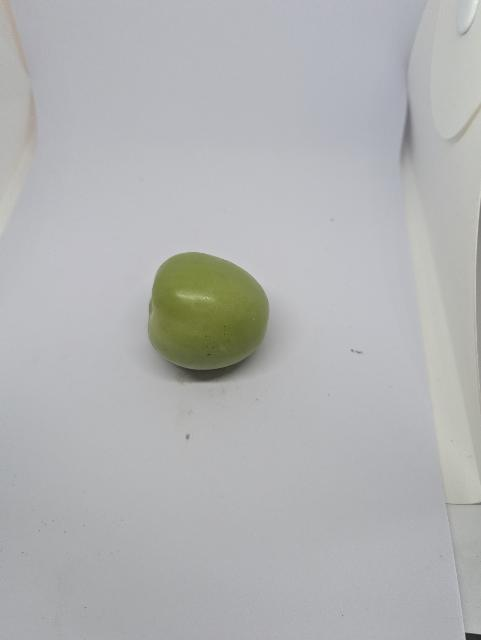green: (141, 245, 275, 375)
